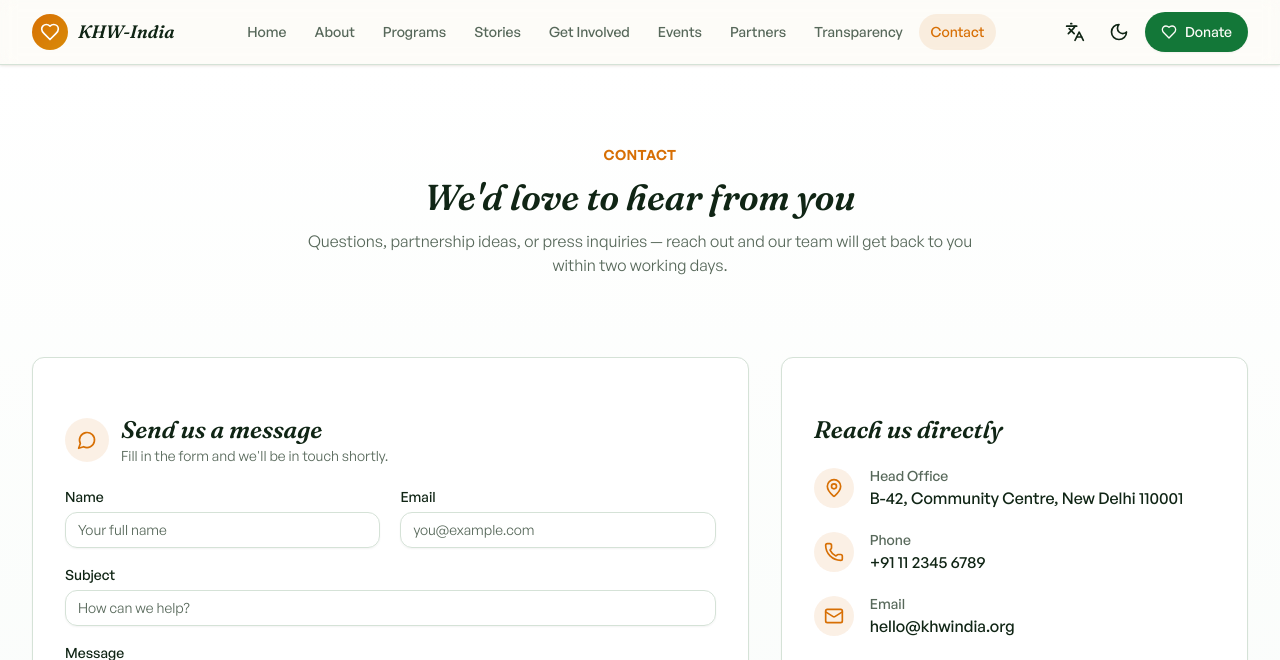
Scenario: Contact form › submits a message and stores it for the admin dashboard
The image size is (1280, 660).
Step 1. Type "Test Donor" into the field labelled "Name" → (223, 530), box [65,512,380,548]
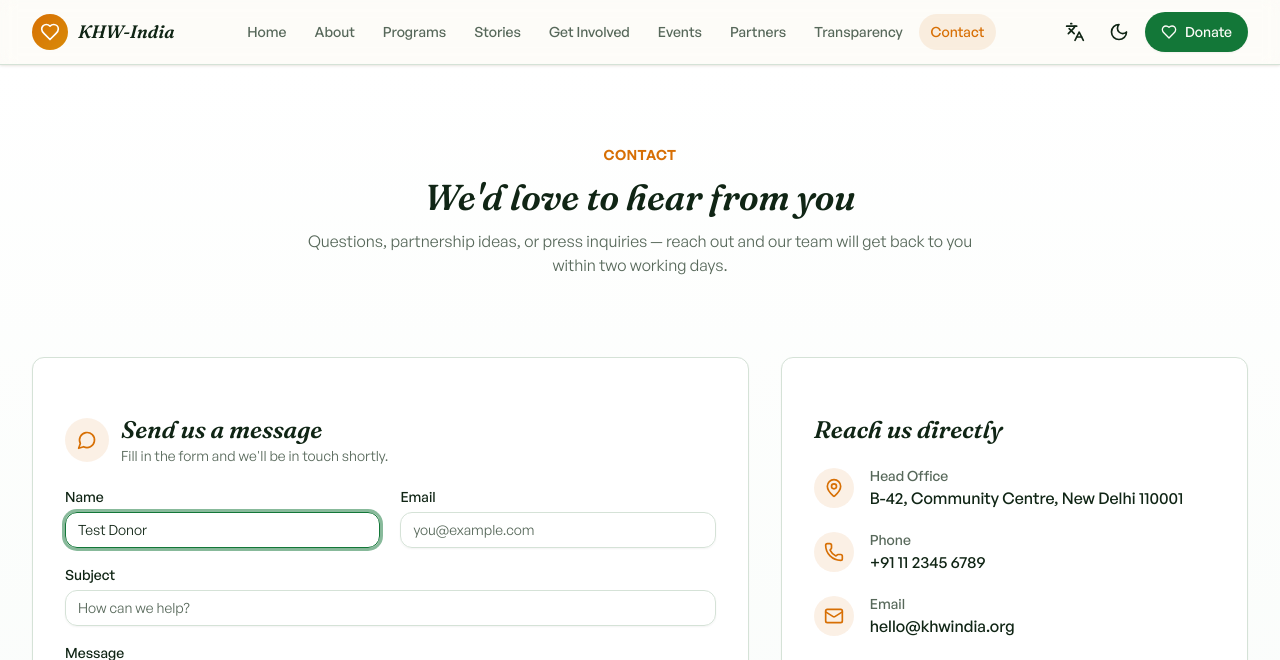
Step 2. Type "test@example.com" into the field labelled "Email" → (558, 530), box [400,512,716,548]
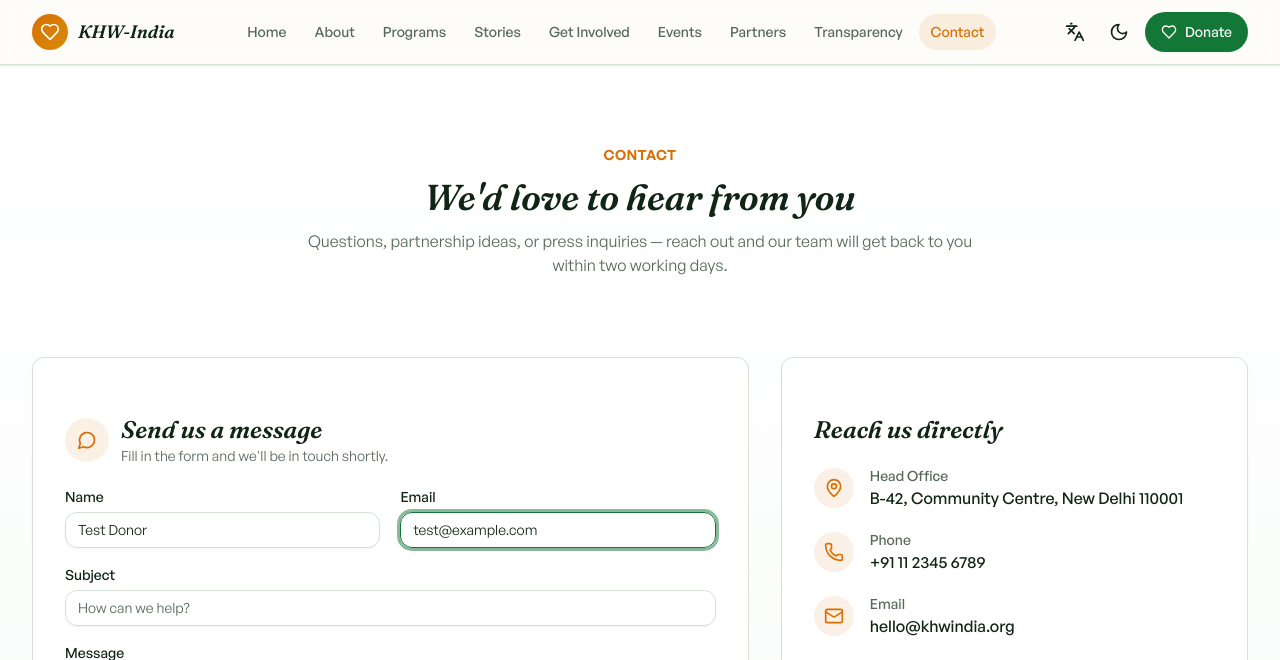
Step 3. Type "Partnership" into the field labelled "Subject" → (390, 608), box [65,590,716,626]
(page scrolled)
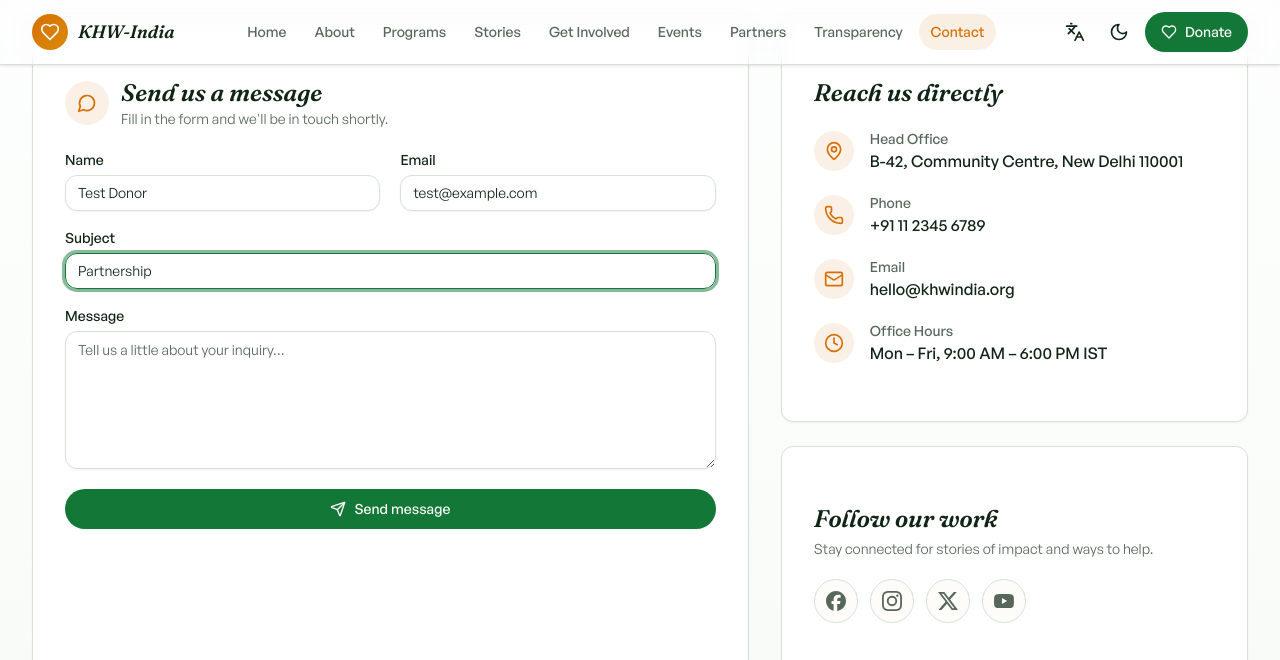
Step 4. Type "We would like to partner with KHW-India." into the text box labelled "Message" → (390, 400), box [65,331,716,469]
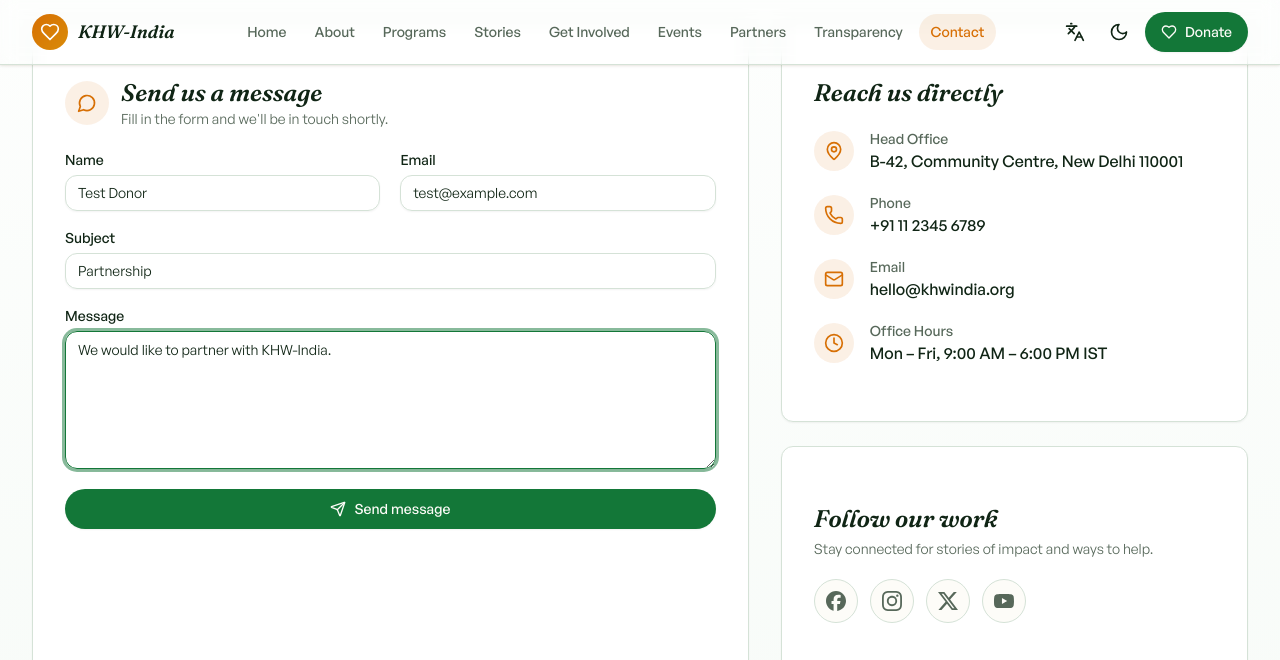
Step 5. Click the button "Send message" → (390, 509), box [65,489,716,529]
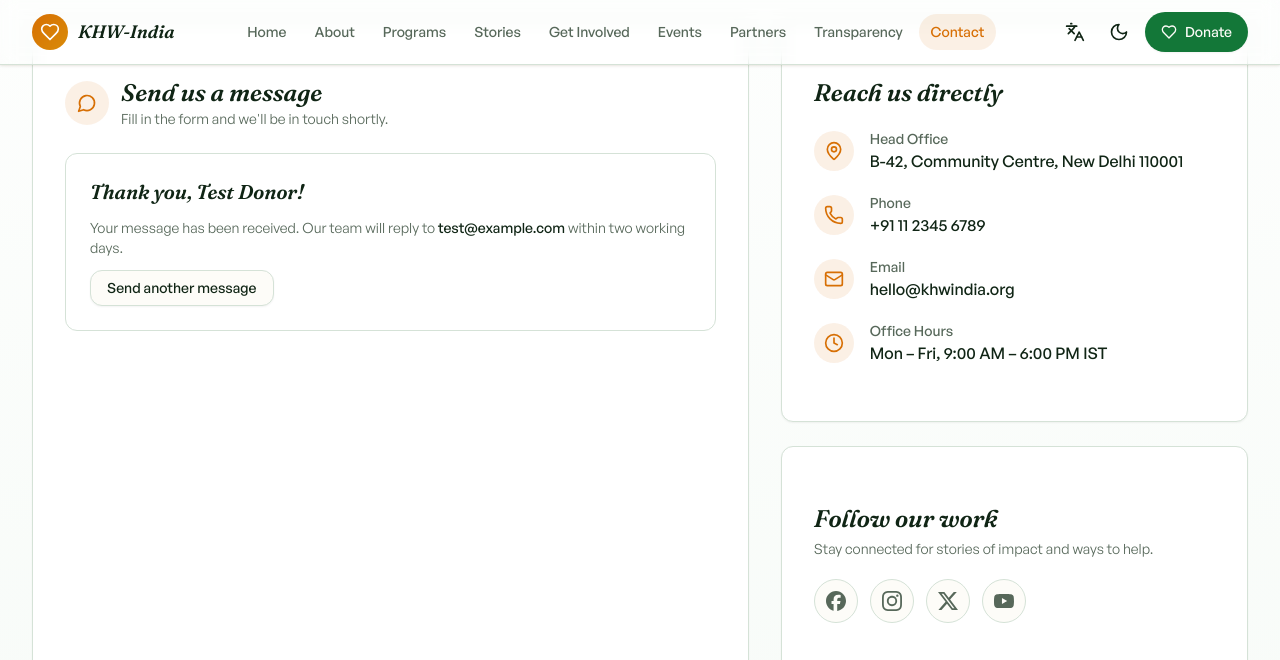
Result: the heading "Thank you, Test Donor!" is shown at [90,178,304,206]
